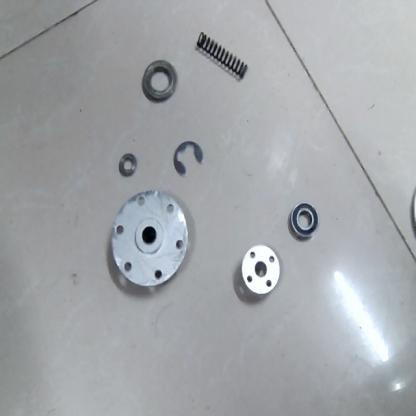FOD: (108, 190, 190, 290), (196, 30, 252, 81), (238, 244, 282, 302), (141, 58, 179, 104), (285, 203, 322, 240), (172, 140, 204, 180), (118, 152, 138, 178)
